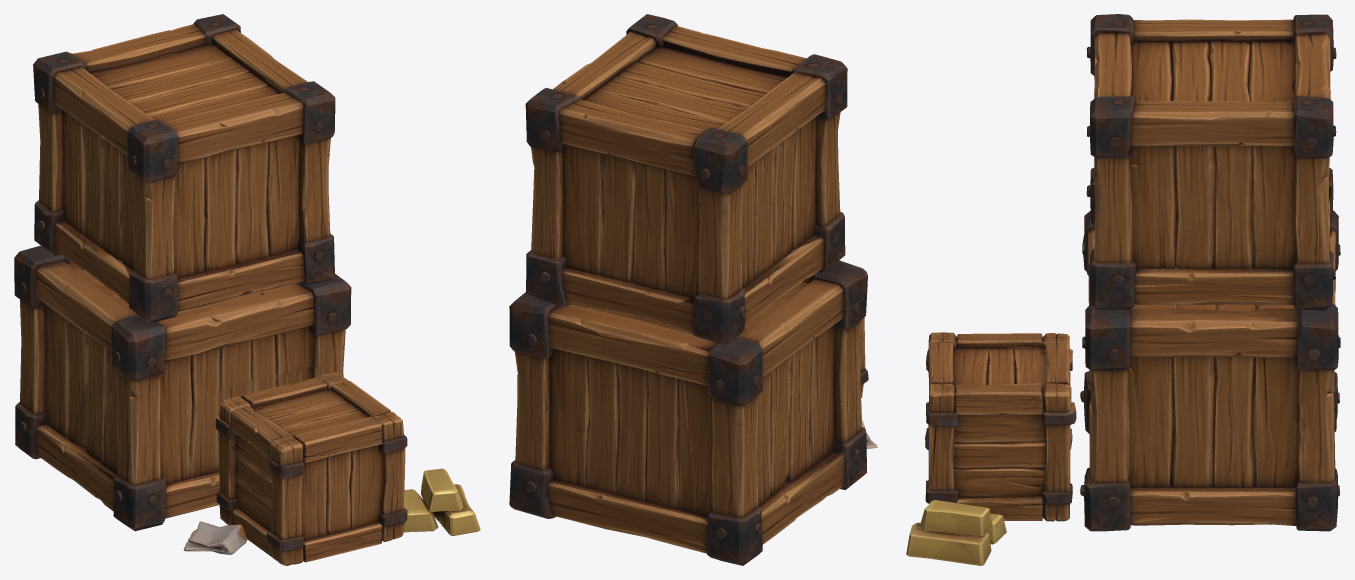
File: crates.glb
3 views of the same model, side by side, from view 1: azimuth 30°, elevation 25°; view 2: azimuth 150°, elevation 25°; view 3: azimuth 270°, elevation 25° (orthographic). The views are drawn at different scales.
Size of the model in its own units: 1.47 by 1.9 by 1.81.
Materials: 1 (1 with a texture image).
